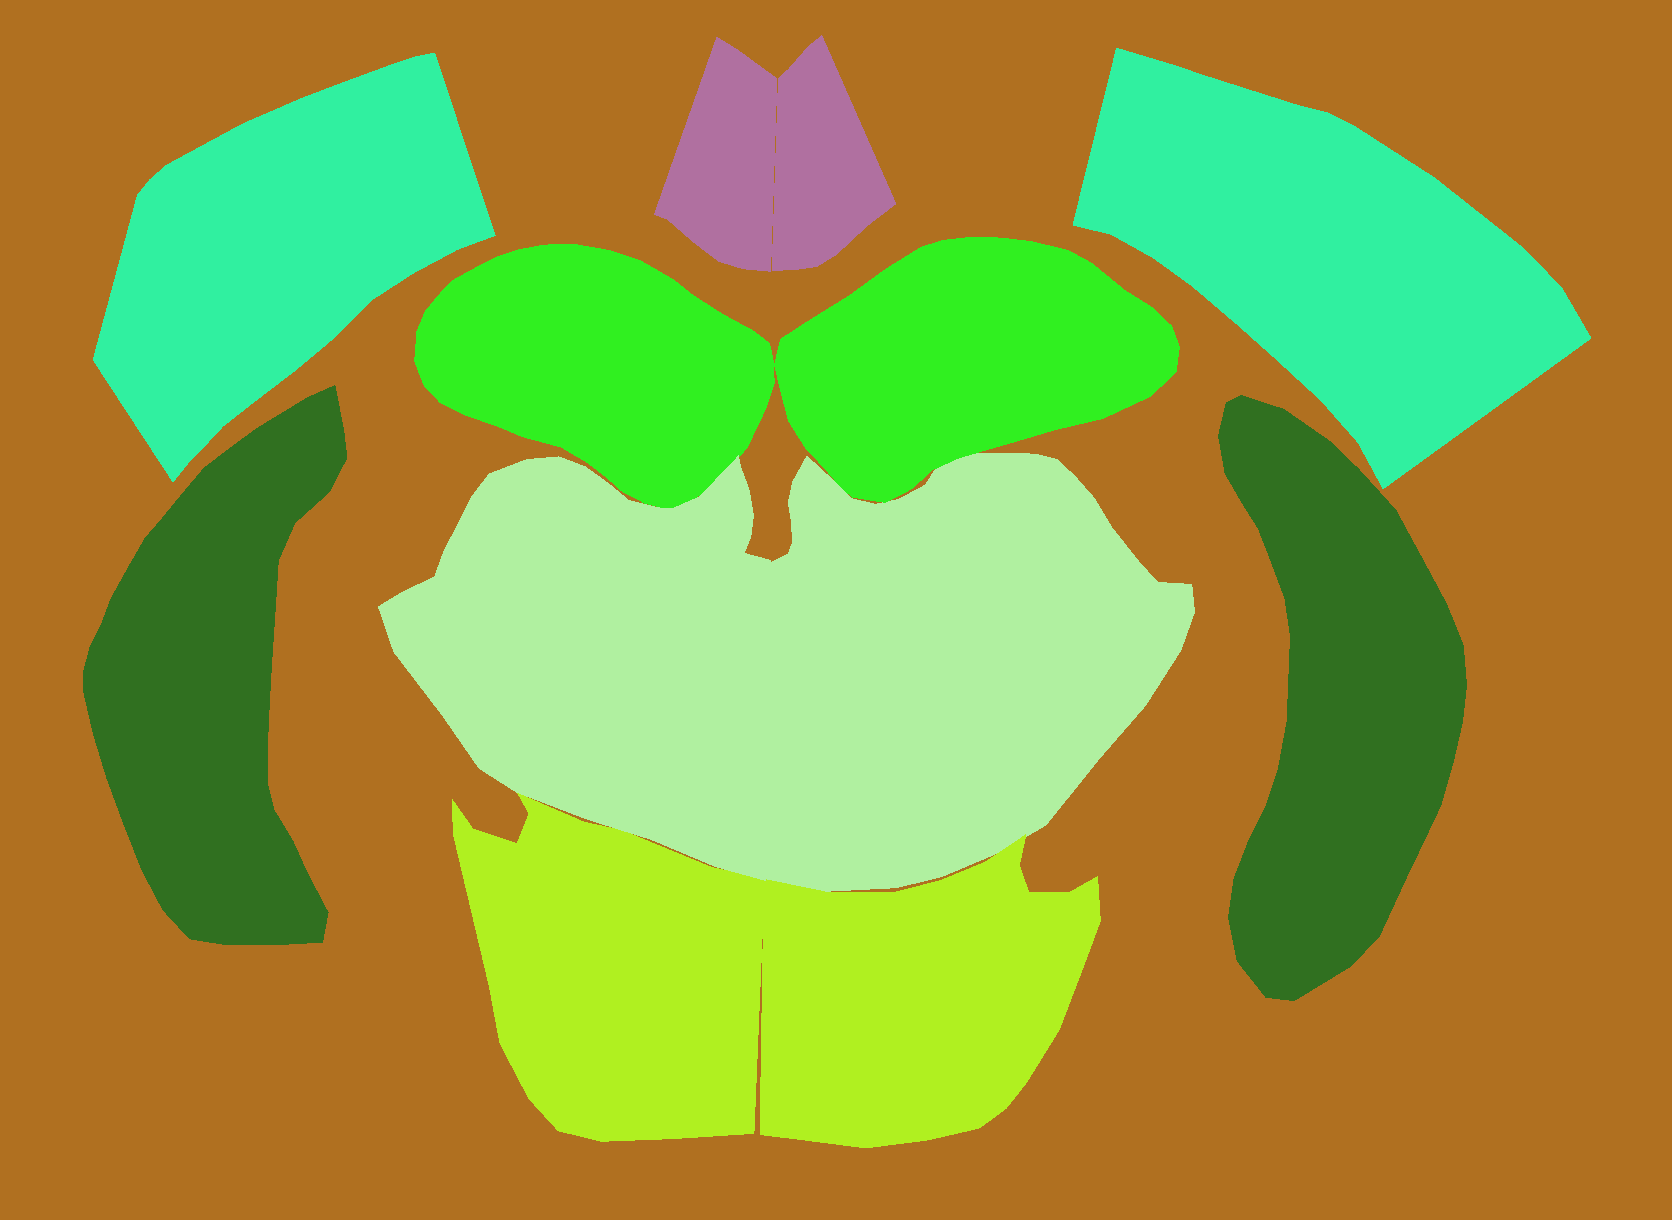Cerebral nuclei: (1218, 395, 1467, 1001), (83, 385, 347, 945)
Hippocampal formation: (774, 238, 1180, 504), (414, 244, 775, 509)
Hypothalamus: (452, 793, 765, 1142), (759, 835, 1101, 1149)
Retrosplenial area: (772, 35, 897, 271), (654, 38, 778, 273)
Somatosensory area: (1072, 48, 1592, 491), (93, 53, 496, 483)
Thalamus: (765, 453, 1196, 892), (378, 456, 772, 880)
